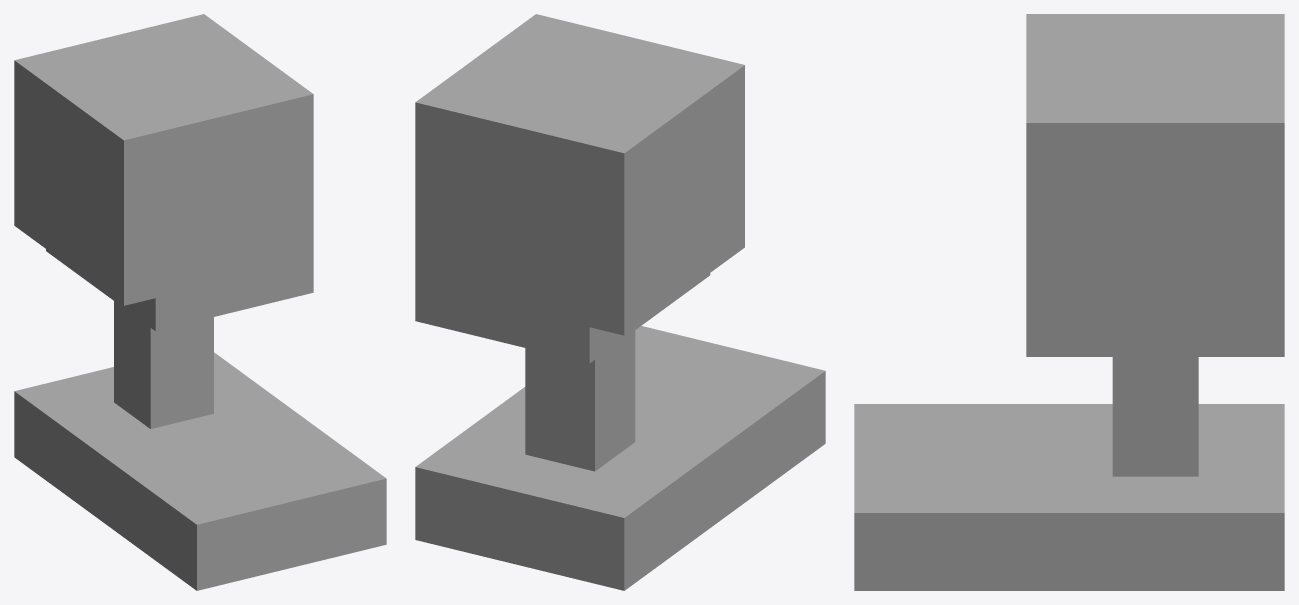
File: PlayerOrange-6-Player_RFoot.obj
3 views of the same model, side by side, from view 1: azimuth 30°, elevation 25°; view 2: azimuth 150°, elevation 25°; view 3: azimuth 270°, elevation 25° (orthographic). The views are drawn at different scales.
Visible parts, largest first — view 1: Player_RFoot; view 2: Player_RFoot; view 3: Player_RFoot.
Boxes of the visible parts, bbox=[...] form: Player_RFoot: bbox=[14, 14, 386, 590]; Player_RFoot: bbox=[415, 14, 825, 590]; Player_RFoot: bbox=[854, 14, 1284, 590].
Bounding box in the file's own units: 0.6 × 1.2 × 1.
Materials: 1 (1 with a texture image).
